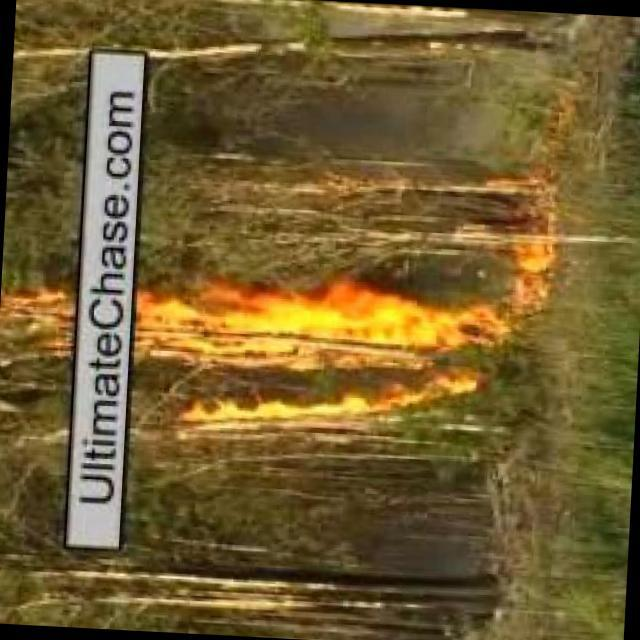Fire: (185, 274, 487, 458), (23, 289, 197, 376), (516, 241, 565, 309)
